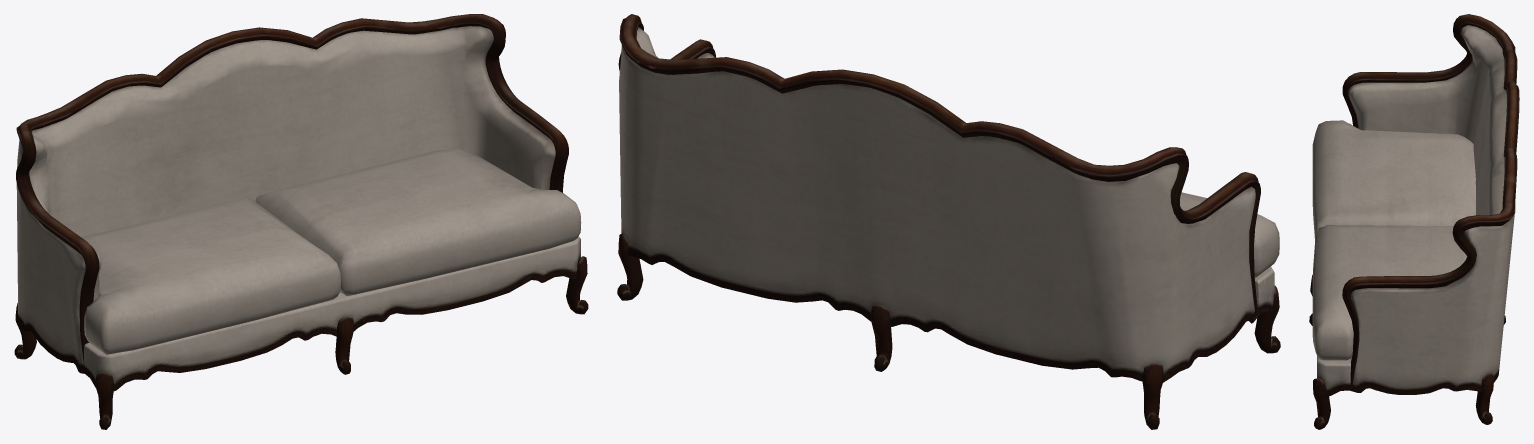
Rendered from sofa.glb.
3 renders of one model, left to right at view 1: azimuth 30°, elevation 25°; view 2: azimuth 150°, elevation 25°; view 3: azimuth 270°, elevation 25°, orthographic. The views are drawn at different scales.
Size of the model in its own units: 1.57 by 0.7965 by 0.658.
1 material, 1 textured.
